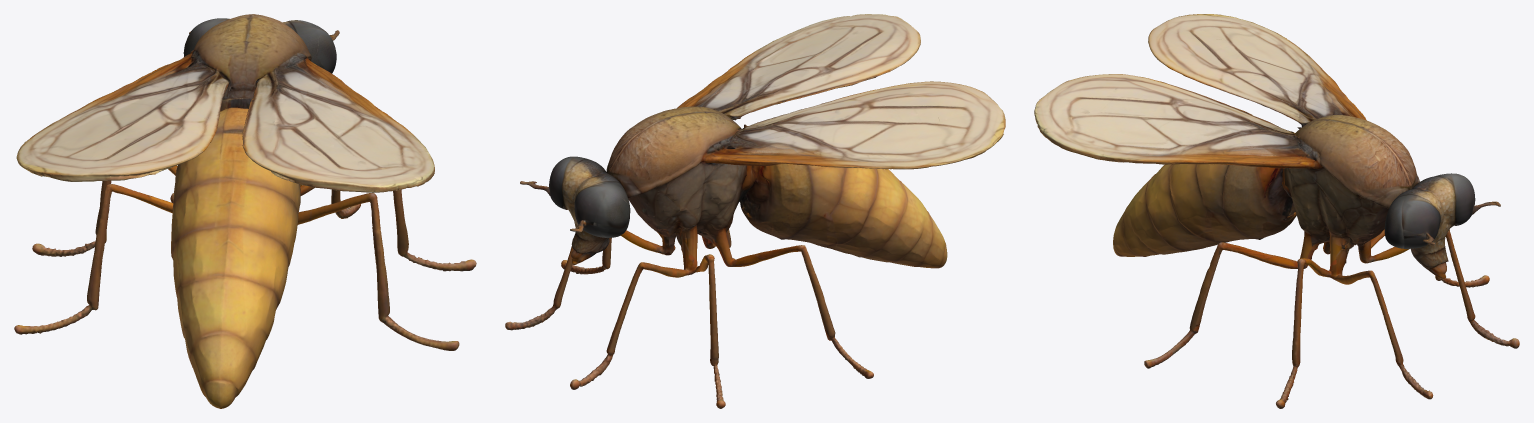
The model's file is bark_midge_-_insect.glb.
3 views of the same model, side by side, from view 1: azimuth 30°, elevation 25°; view 2: azimuth 150°, elevation 25°; view 3: azimuth 270°, elevation 25° (orthographic). The views are drawn at different scales.
Parts seen in each view (by area): view 1: Object_5, Object_4, Object_6; view 2: Object_5, Object_4, Object_6; view 3: Object_4, Object_5, Object_6.
Part boxes in pixels (x1,y1,x2,y2): Object_5: (14, 14, 475, 407); Object_4: (20, 14, 476, 408); Object_6: (18, 14, 476, 406); Object_5: (505, 15, 1005, 400); Object_4: (509, 14, 1005, 408); Object_6: (514, 15, 996, 407); Object_4: (1034, 14, 1519, 408); Object_5: (1038, 14, 1519, 407); Object_6: (1034, 18, 1518, 405).
Bounding box in the file's own units: 2.06 × 1.06 × 2.17.
1 material, 1 textured.
